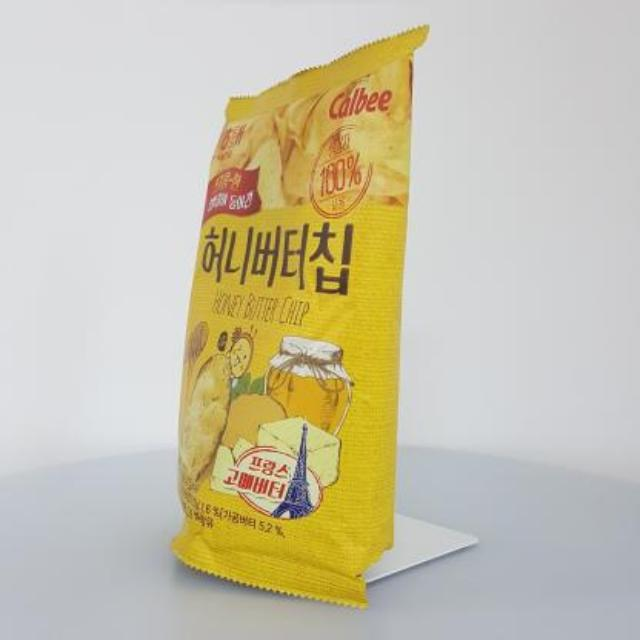snack_bag: (154, 16, 448, 620)
